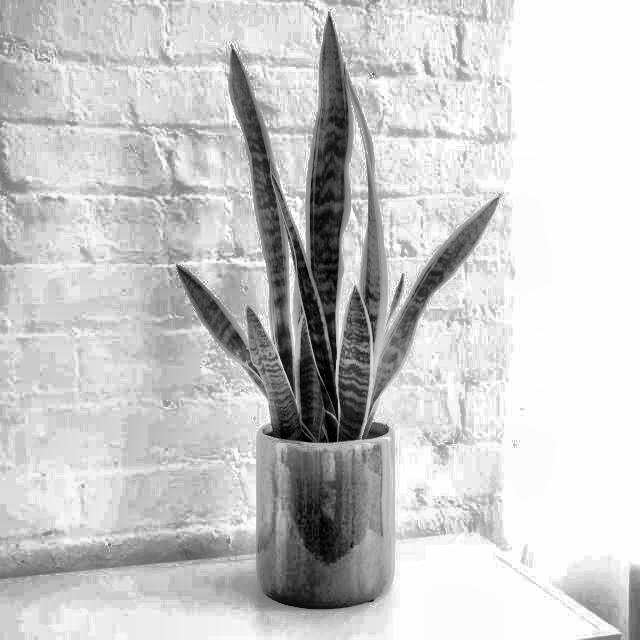plants: (174, 9, 502, 448)
